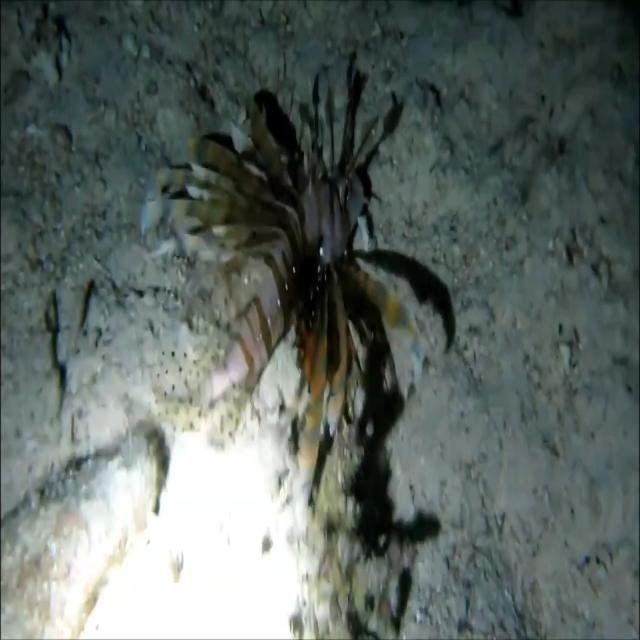Lionfish -Endangered- -Poisonous-: (172, 62, 438, 466)
